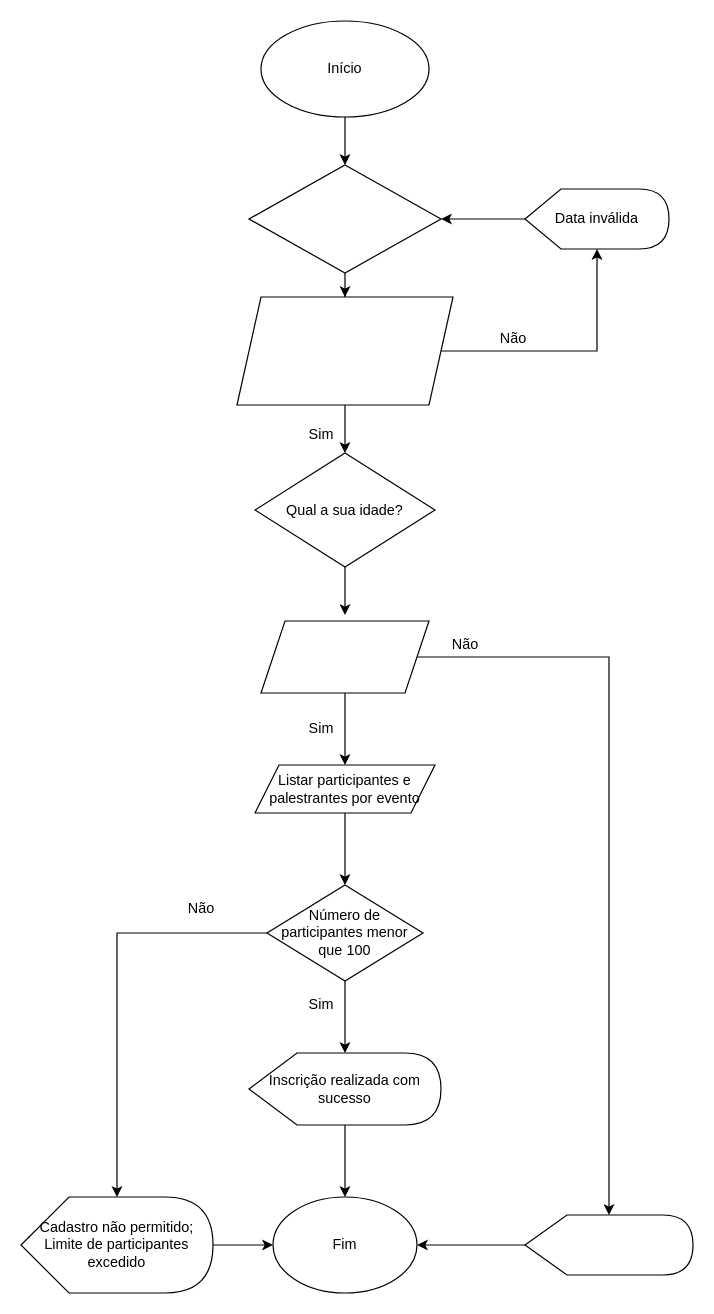
This 714x1314 diagram has some shape labels left out. Here are the shapes that lost their labels. From the top down, the box of each, then its label:
(248, 164, 441, 273): Qual a data do evento escolhido?
(236, 296, 453, 405): Data inserida é posterior à data de hoje?
(260, 620, 429, 693): Idade inserida é maior ou igual a 18?:
(524, 1214, 693, 1275): Cadastro não permitido:
